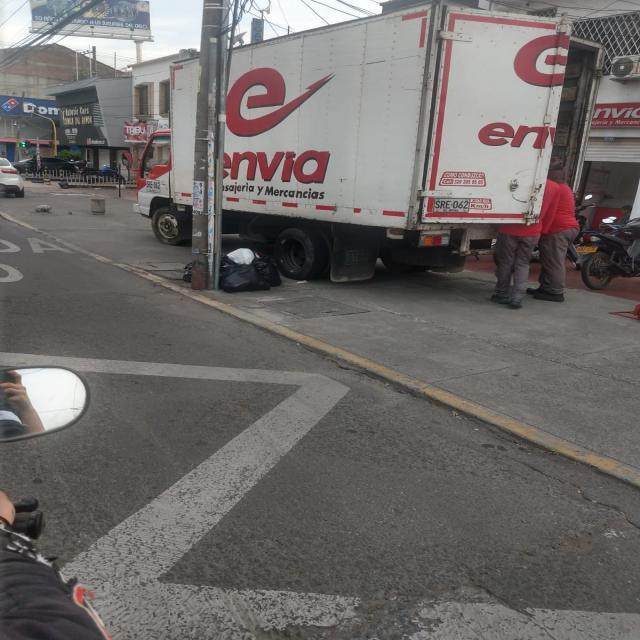Garbage_Bag: (220, 264, 270, 291), (251, 251, 285, 287), (226, 248, 253, 264)
